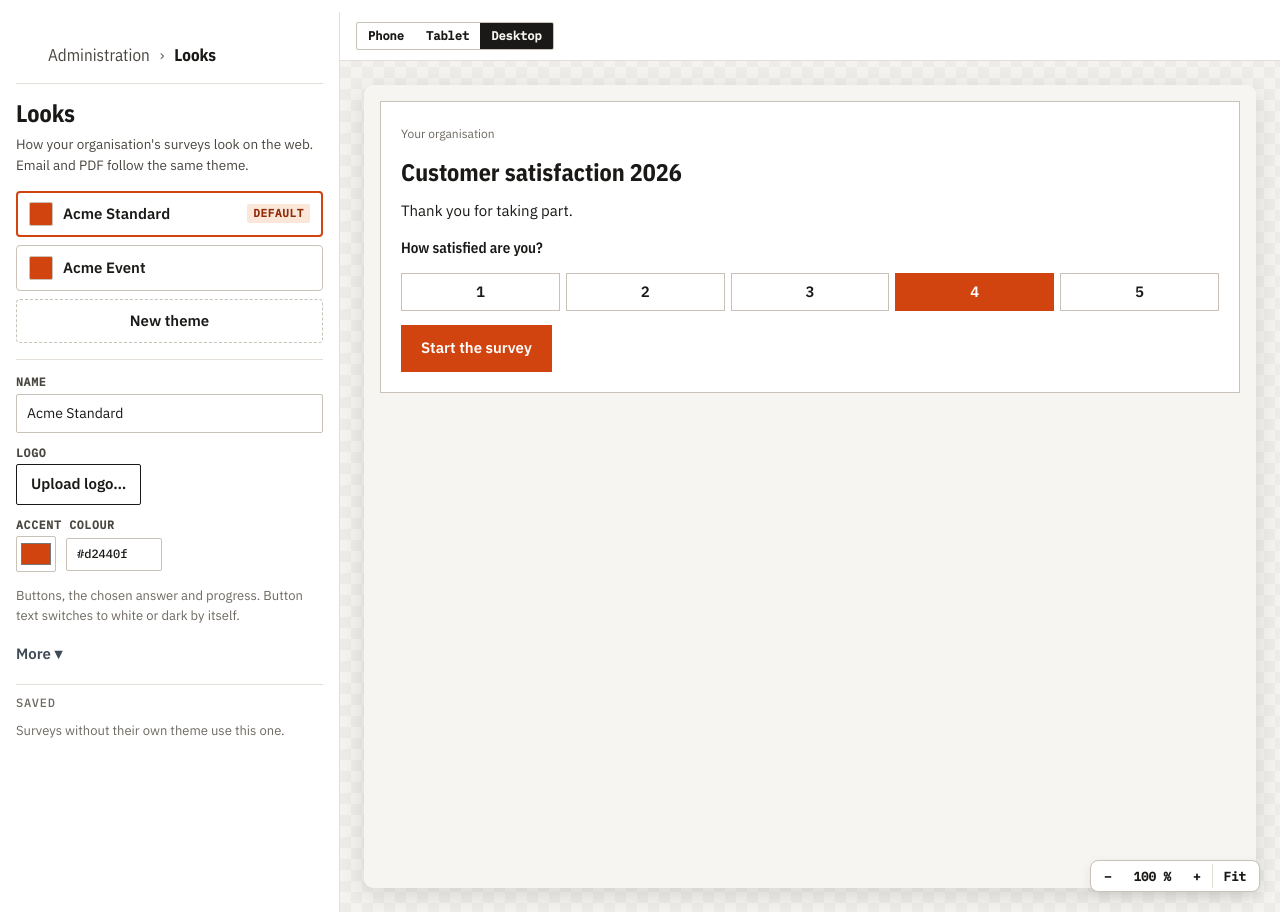
Scenario: Administration → Looks (AWK-17, W10 A, W32): stupid simple › says in plain words which colours are too weak, and does not save until they are fixed
expect the heading "Looks" is shown: met, box x1=16 y1=97 x2=75 y2=129
Click the button "More ▾": (39, 655) x1=16 y1=639 x2=62 y2=670
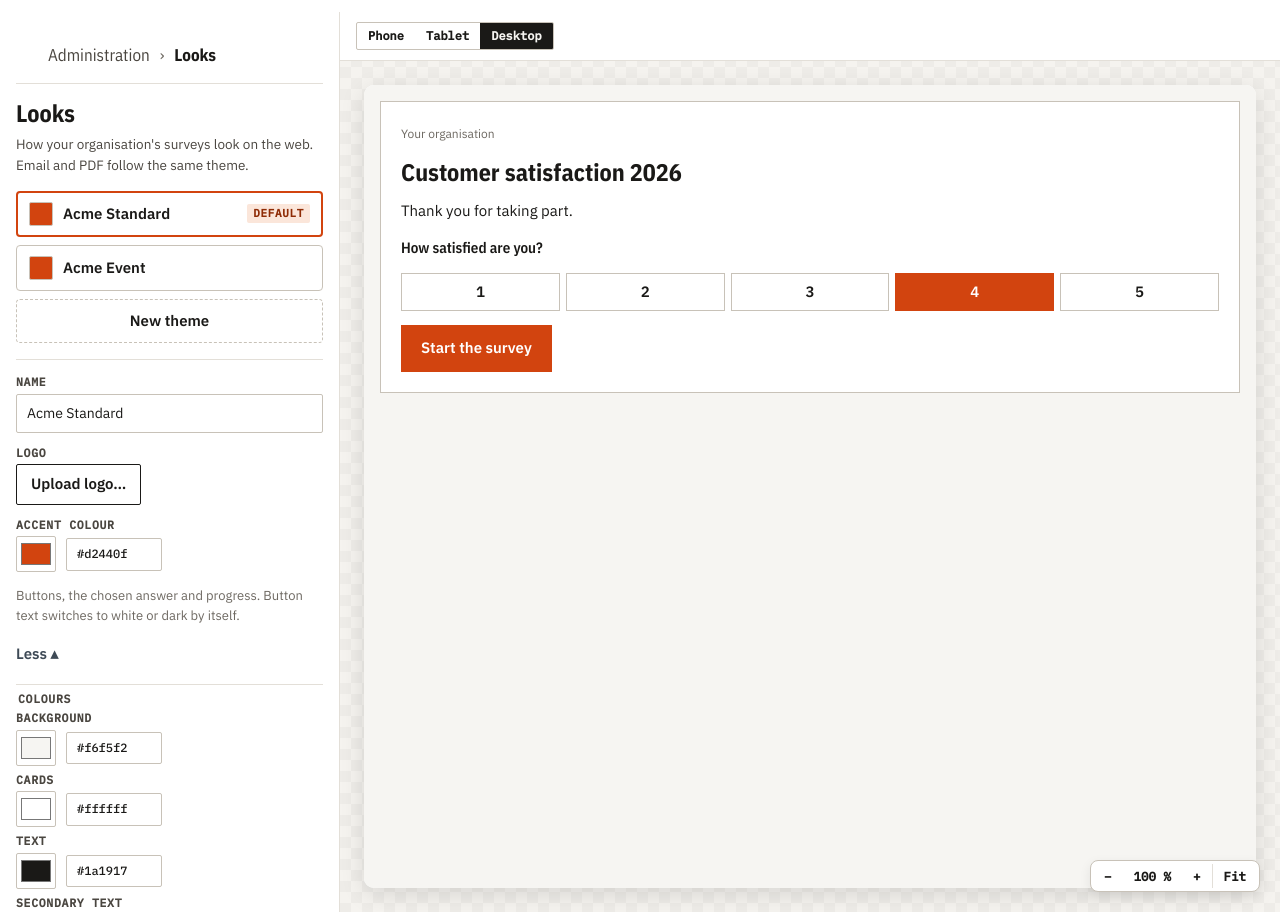
Replace the text in the field named "Text (hex)" with "#9a948c": (114, 871) x1=66 y1=855 x2=162 y2=887
(page scrolled)
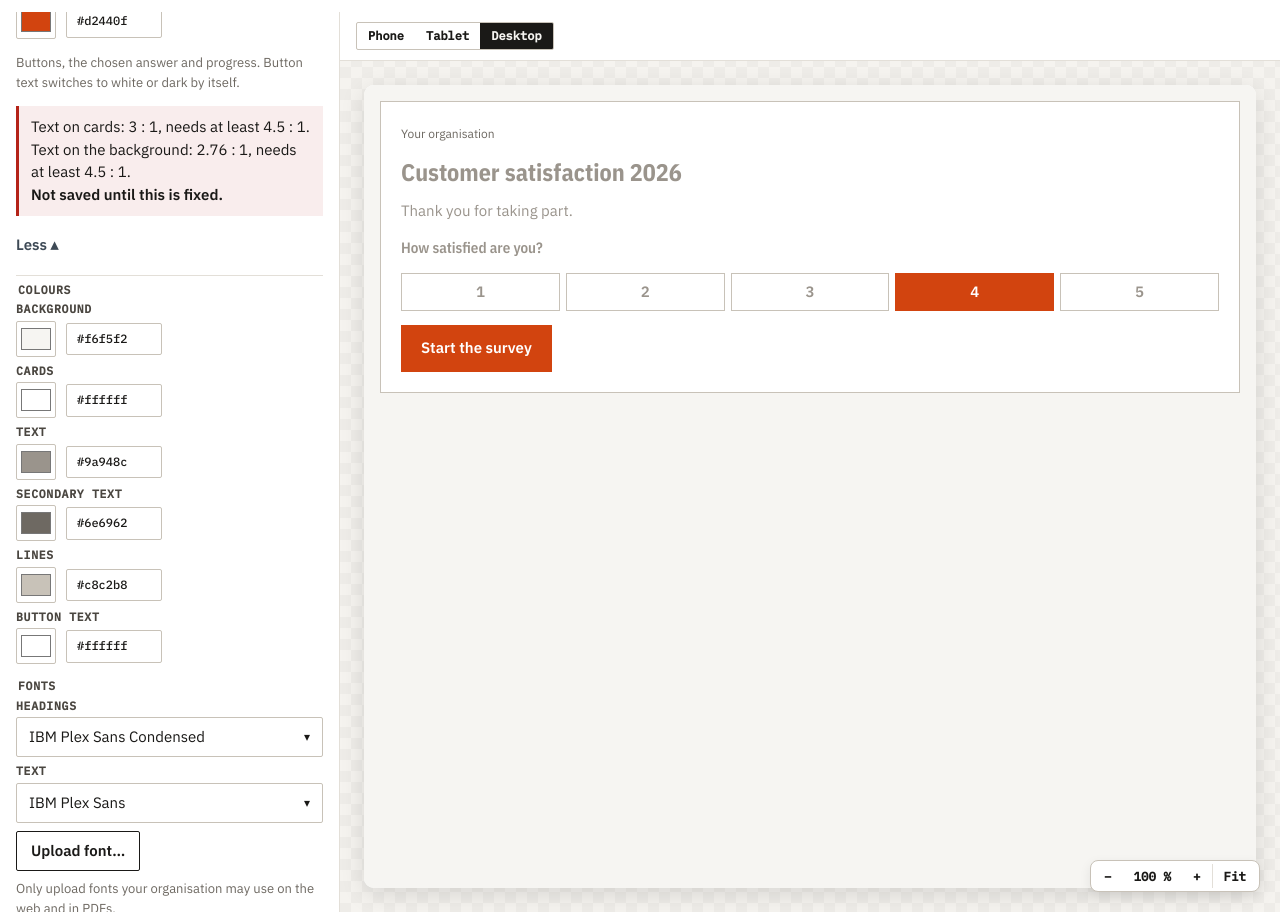
expect the message shows "Text on cards: 3 : 1, needs at least 4.5 : 1.": met, box x1=31 y1=117 x2=310 y2=136
expect the message shows "Not saved until this is fixed.": met, box x1=31 y1=185 x2=223 y2=204
Replace the text in the field named "Text (hex)" with "#1a1917": (114, 462) x1=66 y1=446 x2=162 y2=478
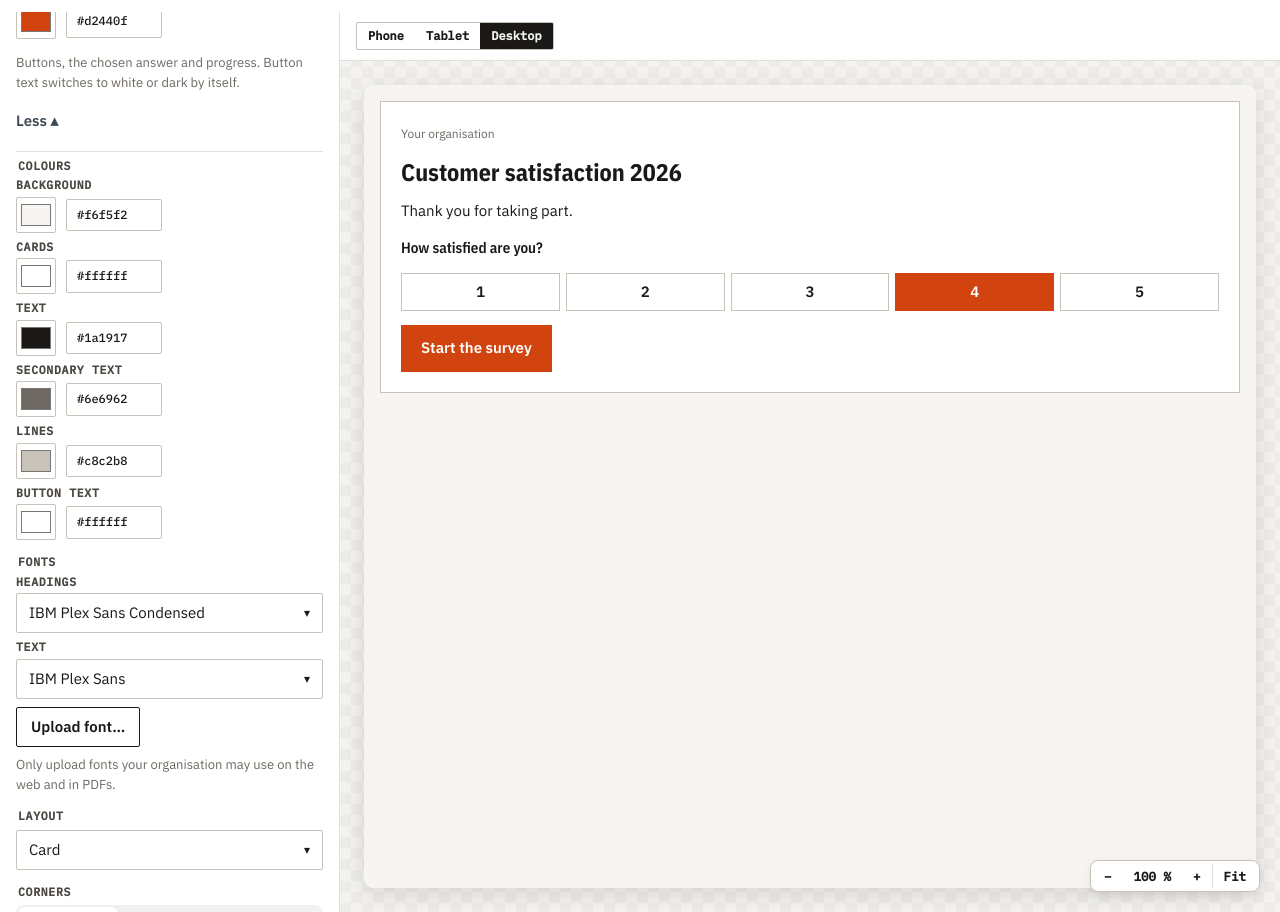
expect the message "Text on cards: 3 : 1, needs at least 4.5 : 1. Text on the background: 2.76 : 1," is gone: met
